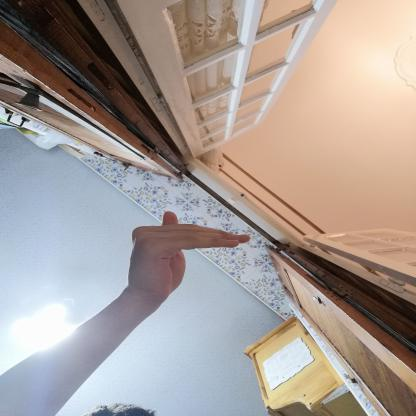KHAA: (121, 204, 262, 310)
